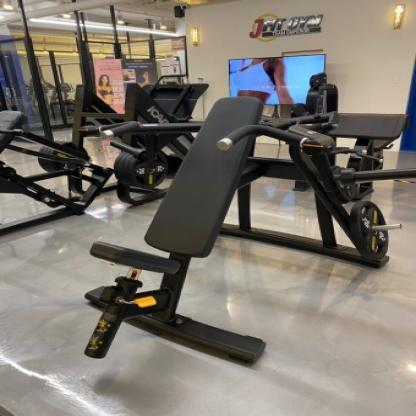shoulder press machine: (57, 83, 416, 406)
